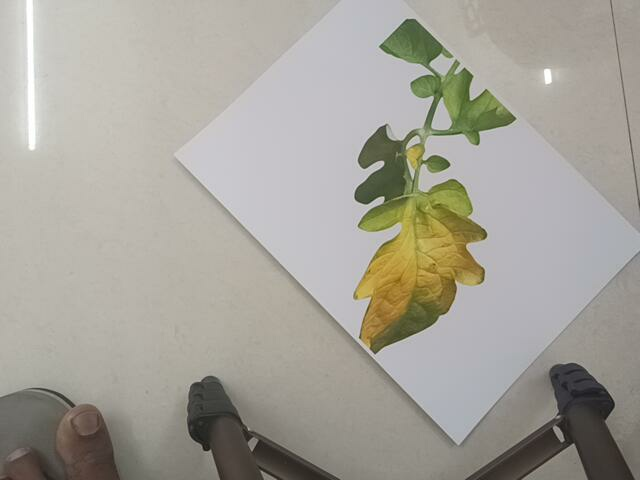Tomamto_Yellow_Disease: (349, 15, 517, 350)
